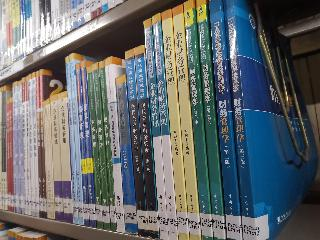book-spine: (204, 0, 244, 240), (219, 0, 258, 240), (180, 1, 215, 240), (193, 0, 227, 240), (171, 5, 203, 240), (161, 9, 189, 239), (151, 12, 178, 240), (143, 19, 170, 240), (122, 49, 149, 240), (133, 44, 159, 240), (100, 56, 127, 233), (114, 73, 137, 235), (92, 63, 111, 231), (84, 66, 103, 230), (98, 62, 116, 232), (79, 60, 97, 228), (68, 54, 85, 226), (63, 56, 80, 225), (74, 63, 90, 227), (57, 91, 74, 224), (40, 99, 57, 221), (50, 95, 63, 222)
